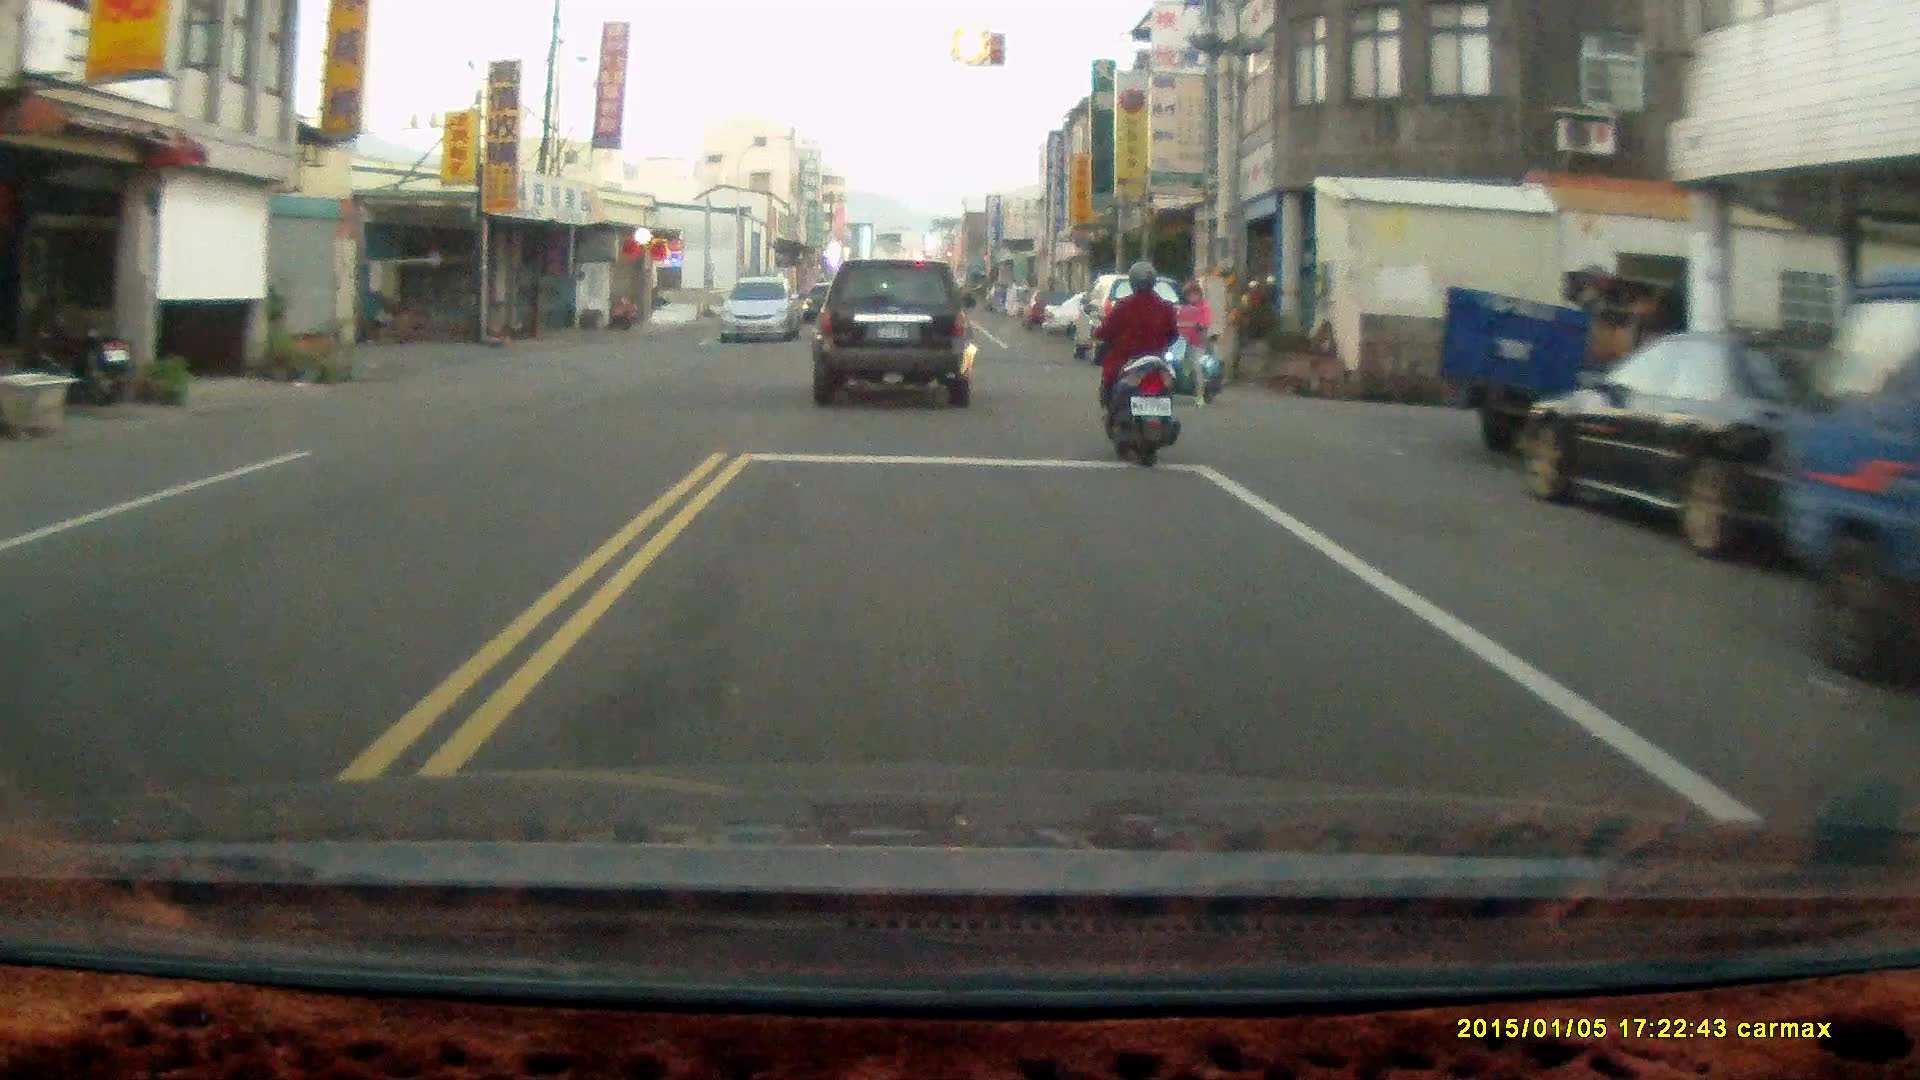rider: (1098, 257, 1178, 474), (1151, 280, 1229, 398)
vehicle: (1517, 329, 1920, 565), (1779, 265, 1920, 695), (1439, 269, 1720, 467), (810, 255, 981, 412), (1075, 276, 1191, 365), (720, 275, 805, 345)
